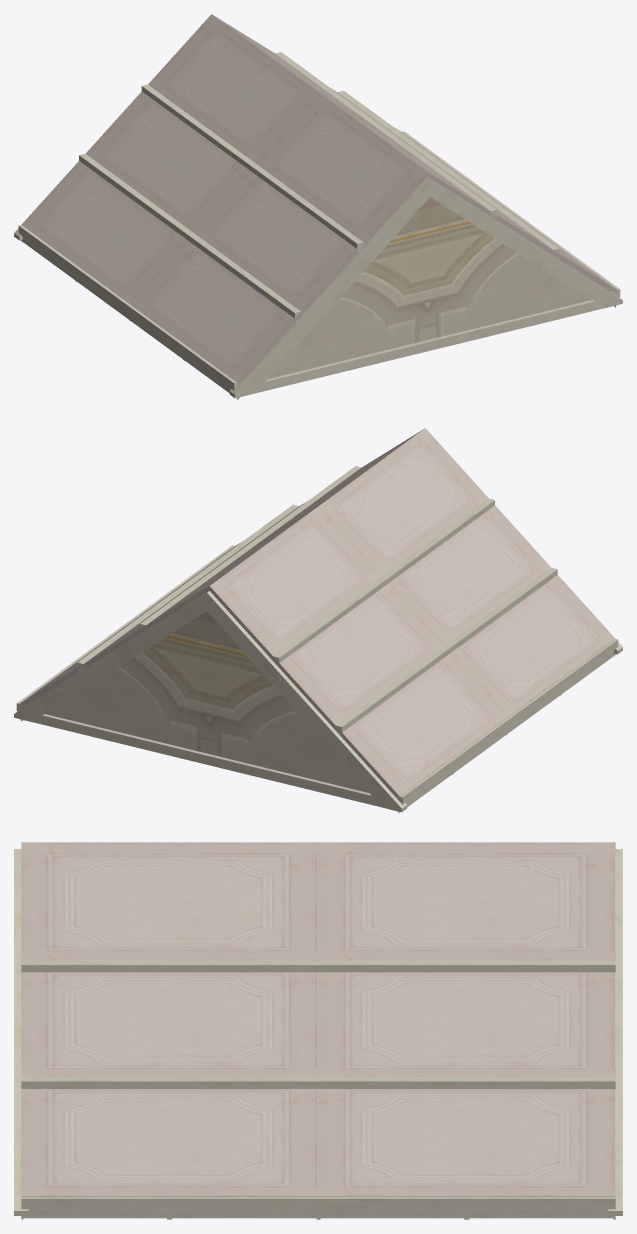
The model's file is Homeworld_Interior_Fd_Room_N_Ceiling_01_Vo.fbx.
3 renders of one model, top to bottom at view 1: azimuth 30°, elevation 25°; view 2: azimuth 150°, elevation 25°; view 3: azimuth 270°, elevation 25°, orthographic. The views are drawn at different scales.
Visible parts, largest first — view 1: Homeworld_Interior_Fd_Room_Ceiling_02_Vo (×3), Homeworld_Interior_Fd_Room_Ceiling_03_Vo; view 2: Homeworld_Interior_Fd_Room_Ceiling_02_Vo (×3), Homeworld_Interior_Fd_Room_Ceiling_03_Vo; view 3: Homeworld_Interior_Fd_Room_Ceiling_02_Vo (×3), Homeworld_Interior_Fd_Room_Ceiling_03_Vo (×2).
Boxes of the visible parts, <box> form: Homeworld_Interior_Fd_Room_Ceiling_02_Vo (×3): <box>18,14,620,399</box>; Homeworld_Interior_Fd_Room_Ceiling_03_Vo: <box>229,177,622,398</box>; Homeworld_Interior_Fd_Room_Ceiling_02_Vo (×3): <box>16,428,618,813</box>; Homeworld_Interior_Fd_Room_Ceiling_03_Vo: <box>14,591,407,812</box>; Homeworld_Interior_Fd_Room_Ceiling_02_Vo (×3): <box>21,842,615,1219</box>; Homeworld_Interior_Fd_Room_Ceiling_03_Vo (×2): <box>14,849,622,1215</box>.
Bounding box in the file's own units: 10.38 × 4.65 × 10.25.
